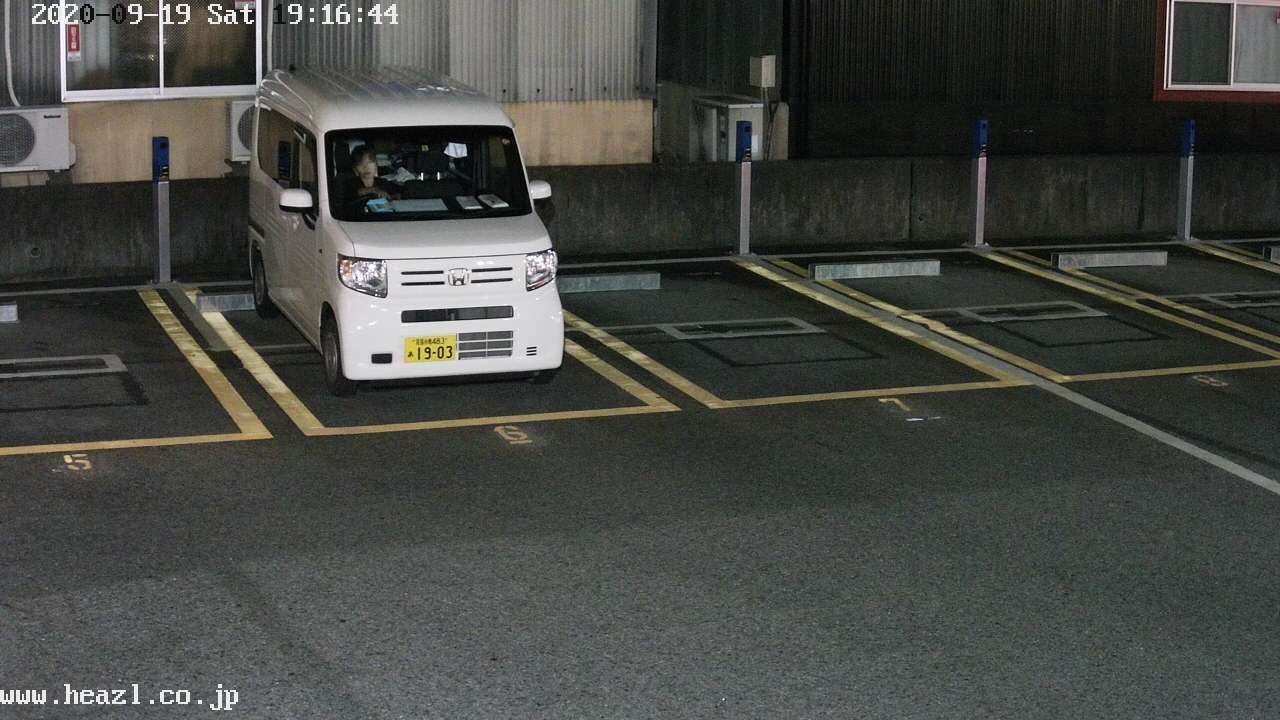number_plate: (405, 335, 458, 361)
